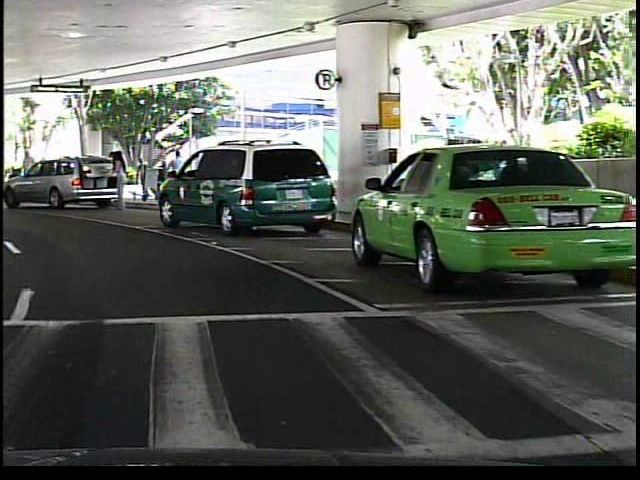person: (107, 147, 126, 213)
